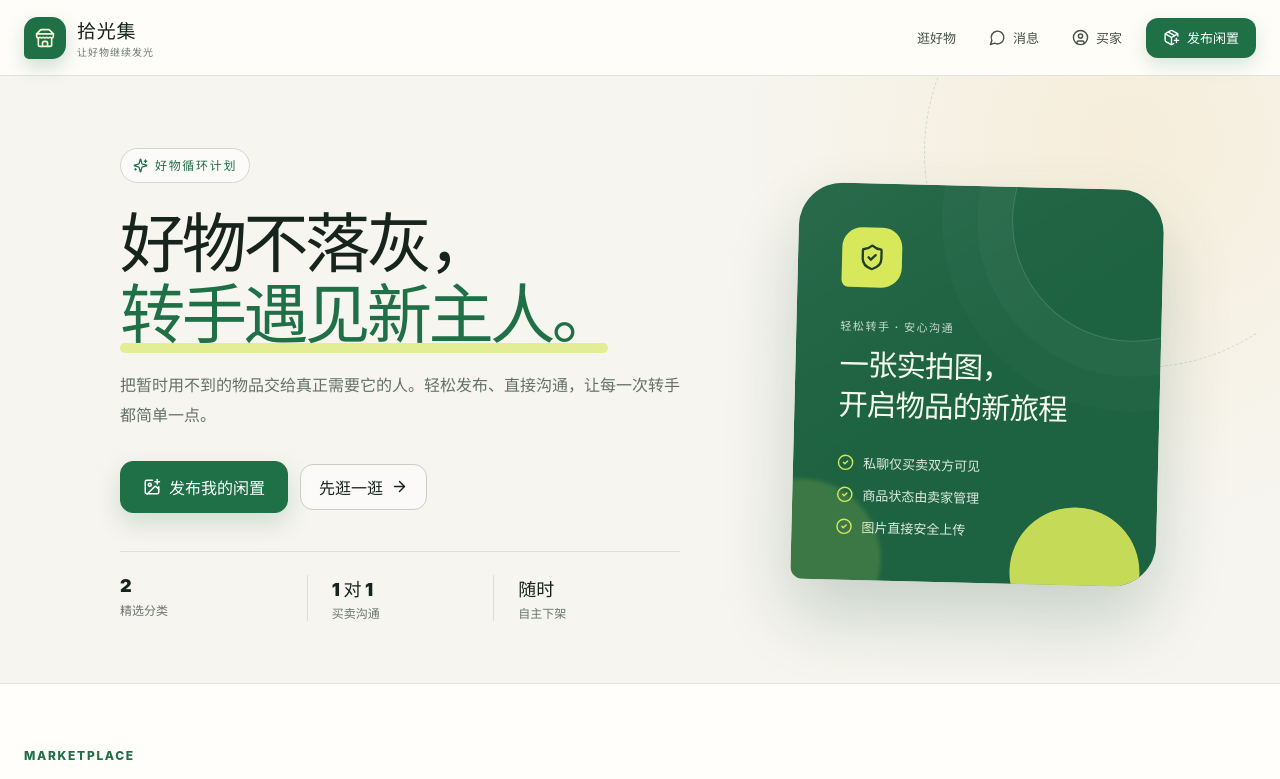
Test: marketplace app › does not skip unread incoming messages when a send response has a later ID
Click the button "消息".
click(1014, 38)  # box [976,18,1052,58]
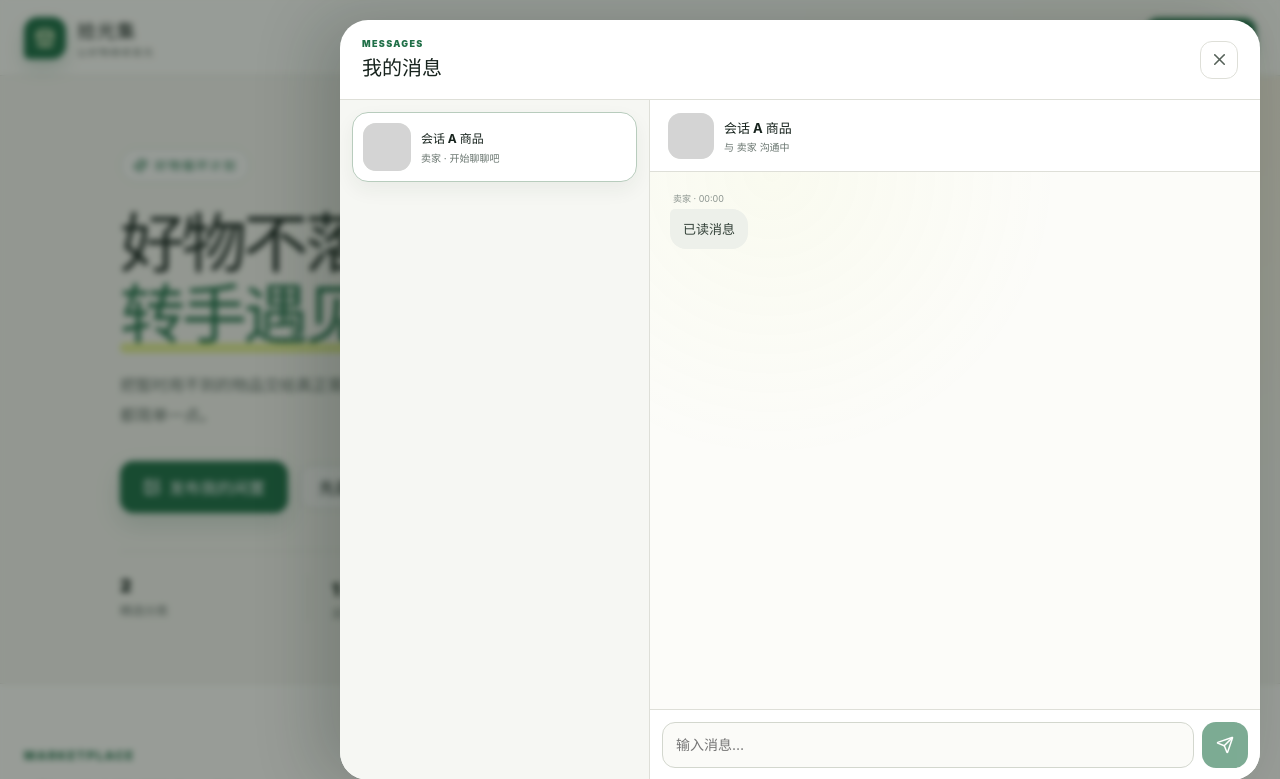
Expected: the text "已读消息" is shown, [670,209,748,249]
Type "我发送的消息" into the field named "消息内容".
click(928, 745); type("我发送的消息")  # box [662,722,1194,768]
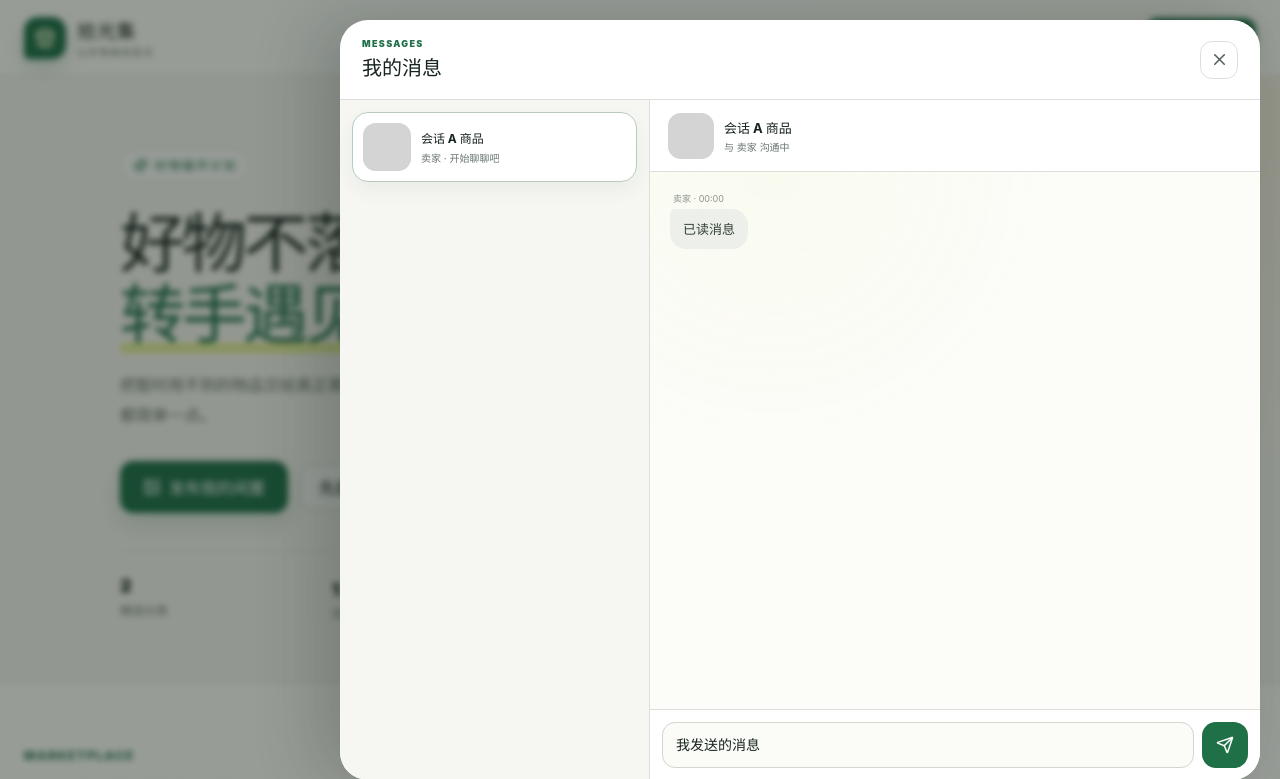
Click the button named "发送消息".
click(1225, 745)  # box [1202,722,1248,768]
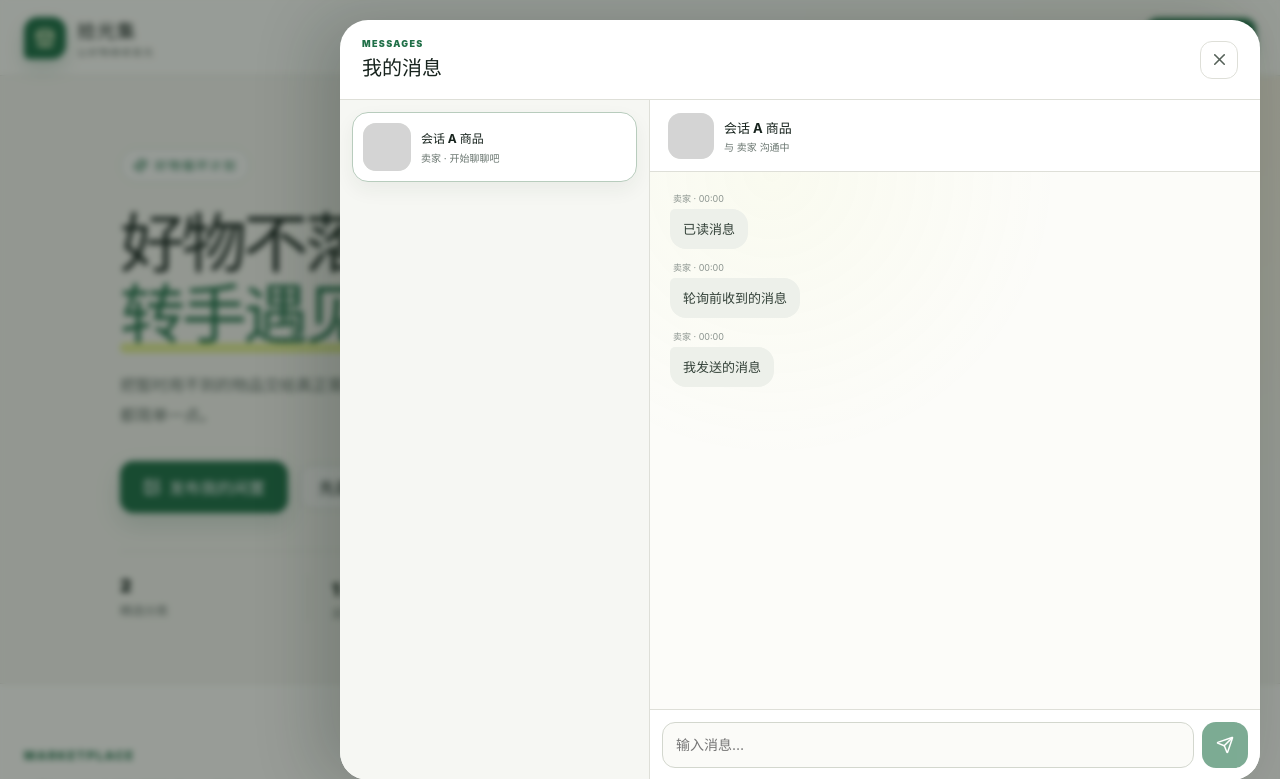
Expected: the text "轮询前收到的消息" is shown, [670,278,800,318]
Expected: the text "我发送的消息" is shown once, [670,347,774,387]
